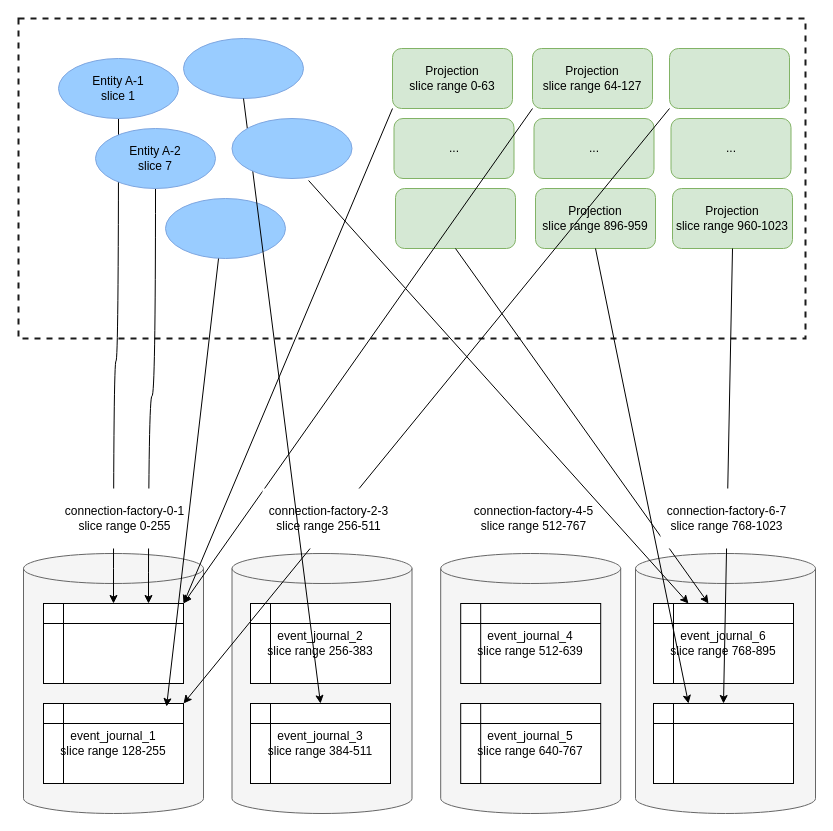
Image size: 833x831. Some labels were removed from this diagram. Here are the shapes that lost their labels. From the top down, the centre of each, then its label:
At (243,68): "Entity A-4 slice 500".
At (729,78): "Projection slice range 128-191".
At (291,148): "Entity A-5 slice 710".
At (225,228): "Entity A-3 slice 132".
At (455,218): "Projection slice range 832-895".
At (113,643): "event_journal_0 slice range 0-127".
At (723,743): "event_journal_7 slice range 896-1023".
